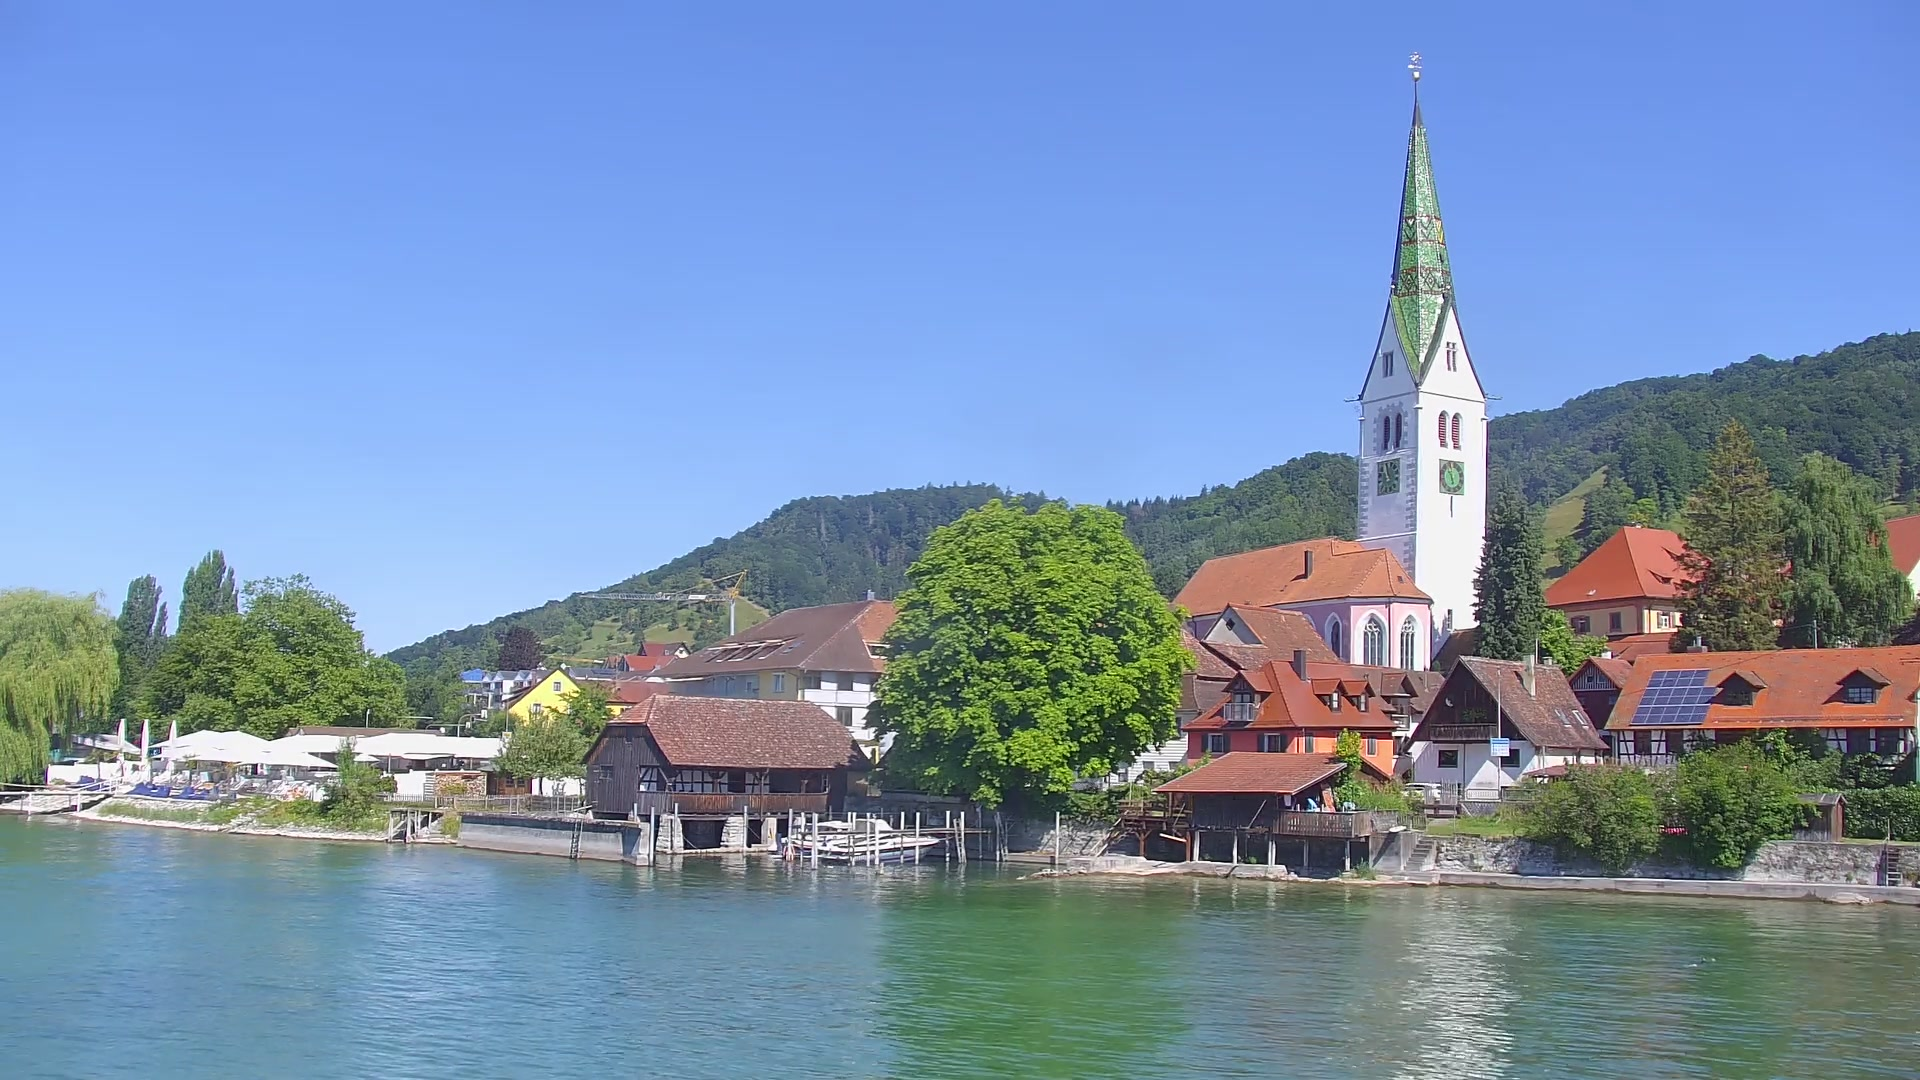sea: (812, 818, 939, 865)
